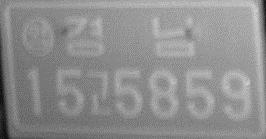1: (24, 68, 44, 117)
5: (183, 68, 217, 120), (112, 68, 145, 118), (54, 67, 86, 118)
8: (148, 69, 180, 122)
9: (220, 70, 254, 123)
경남_D: (61, 14, 200, 60)
고: (84, 70, 115, 118)
영: (21, 17, 56, 60)
